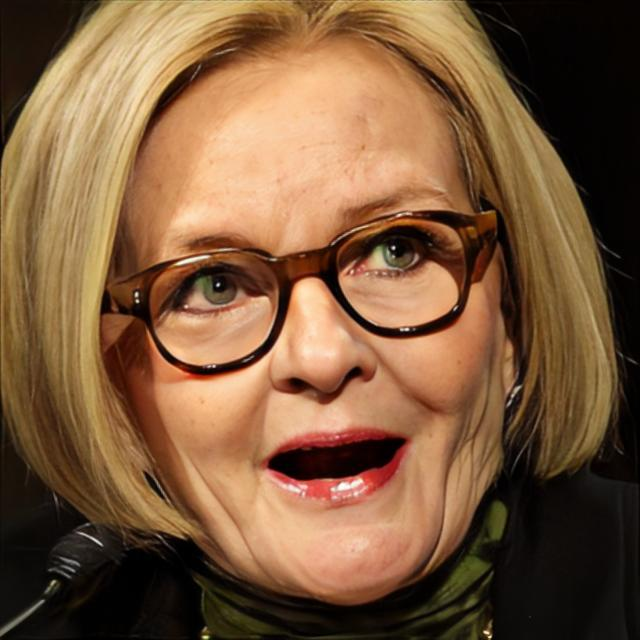Fear: (108, 22, 508, 605)
